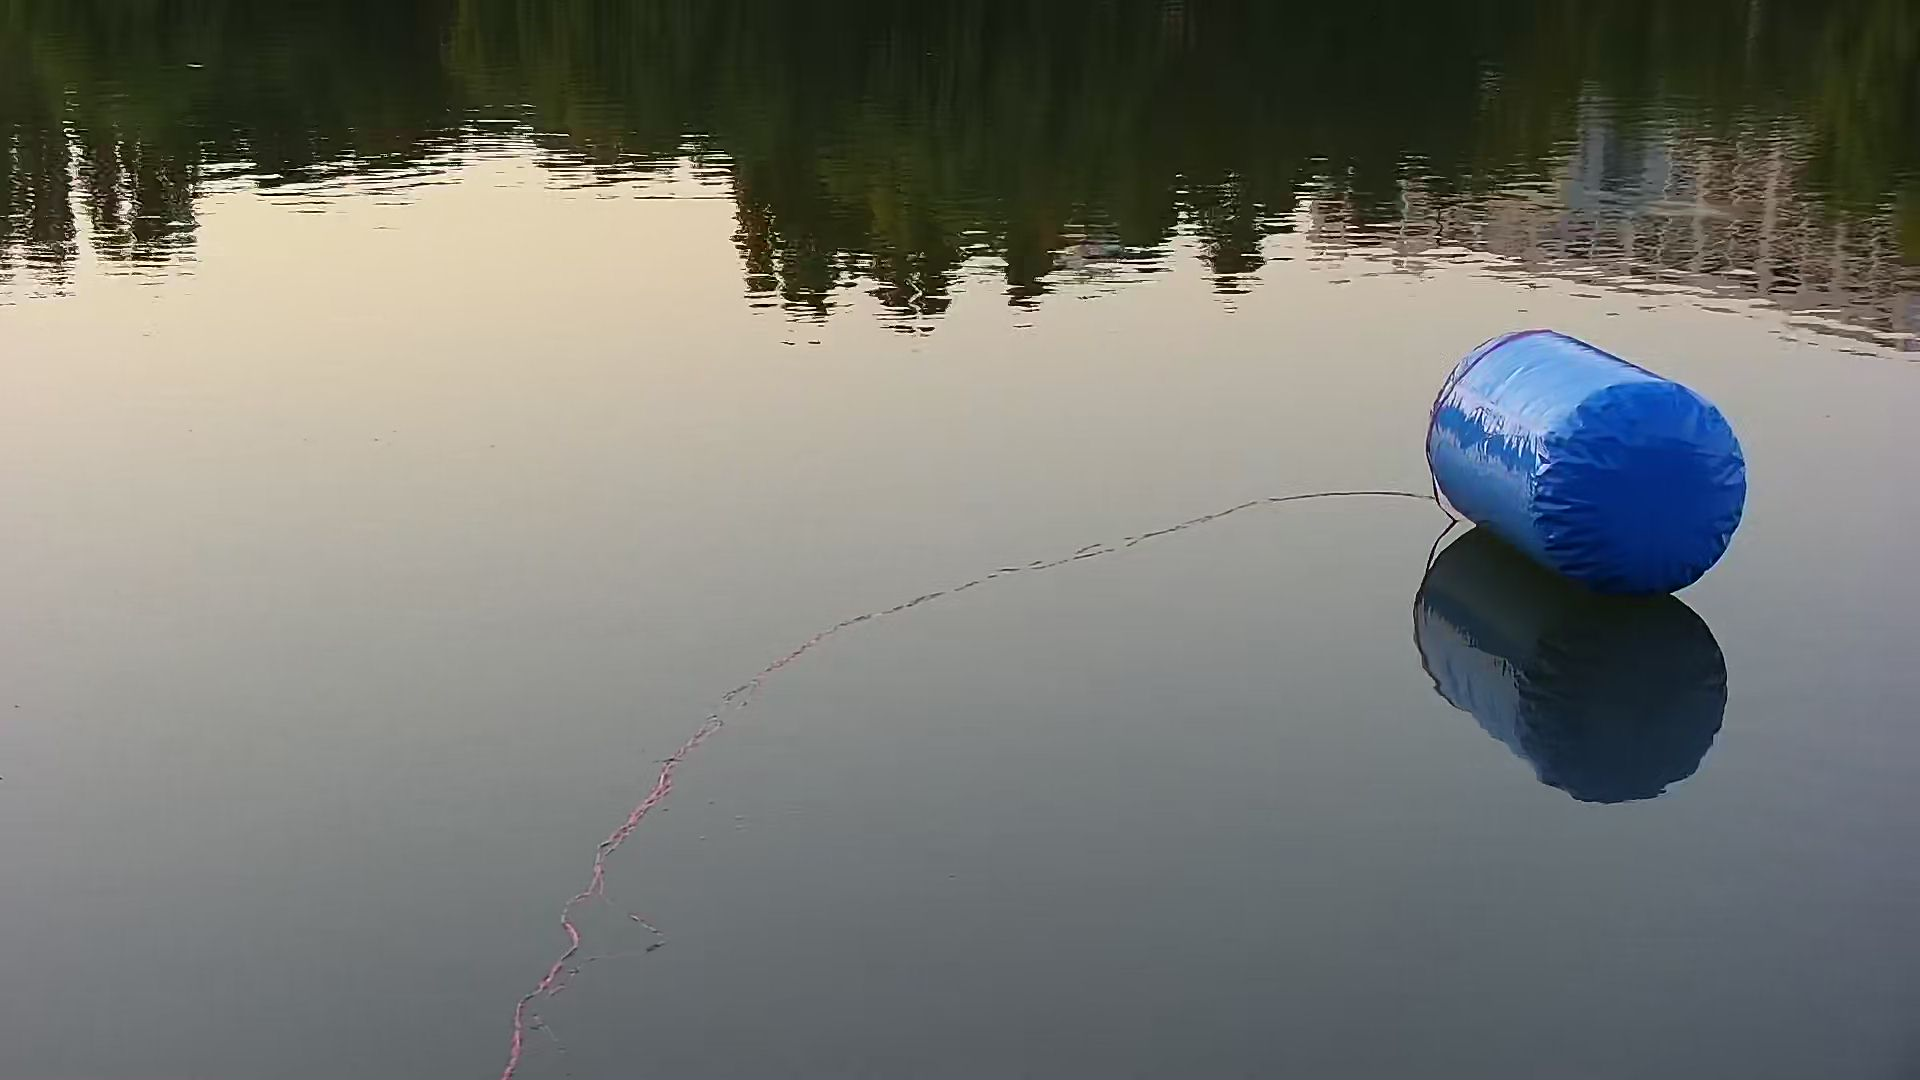rubbish: (1416, 320, 1754, 620)
